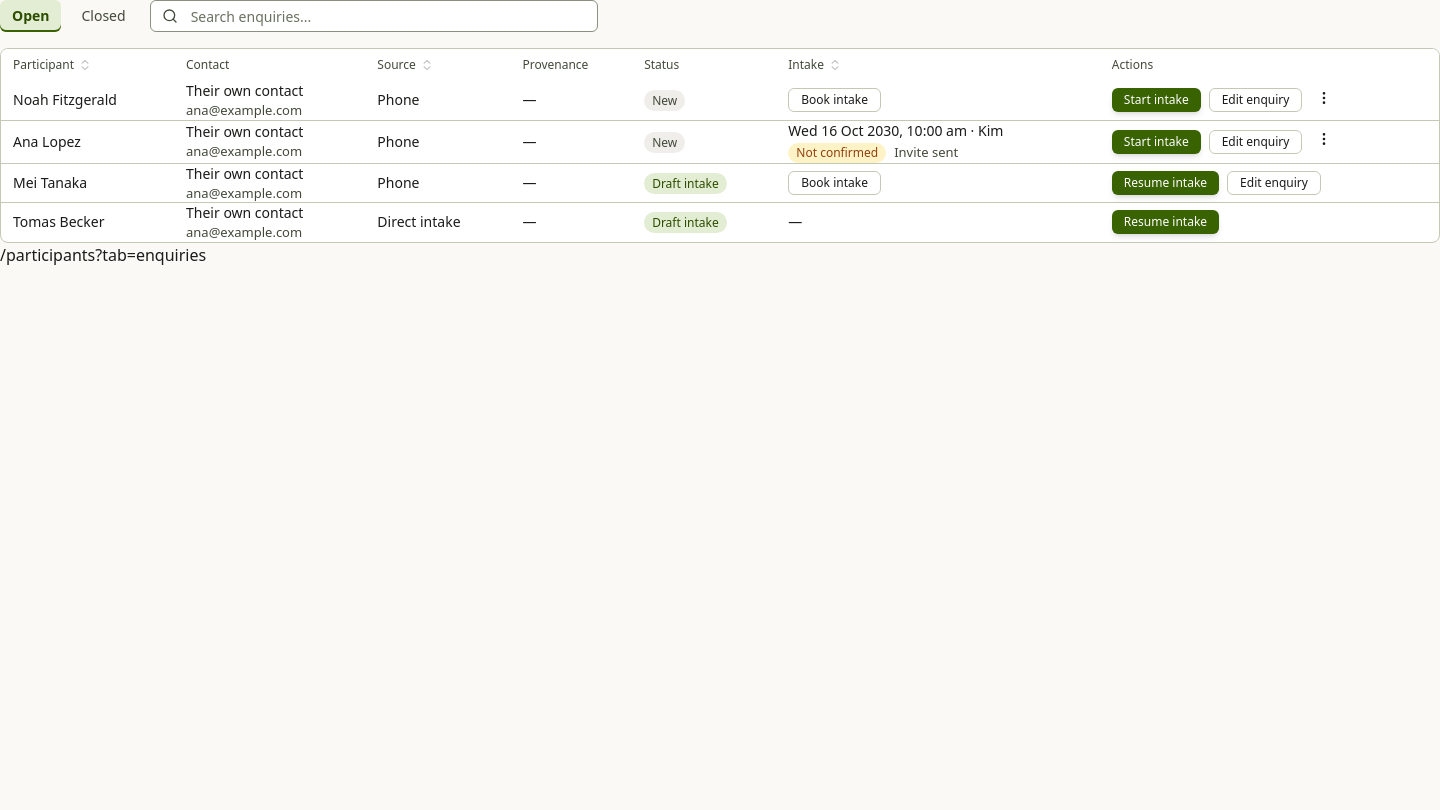
closing an enquiry from the table › a refused close keeps the dialog with the server's sentence
Click the button named "More actions for Noah Fitzgerald": (1324,98) x1=1310 y1=84 x2=1338 y2=112
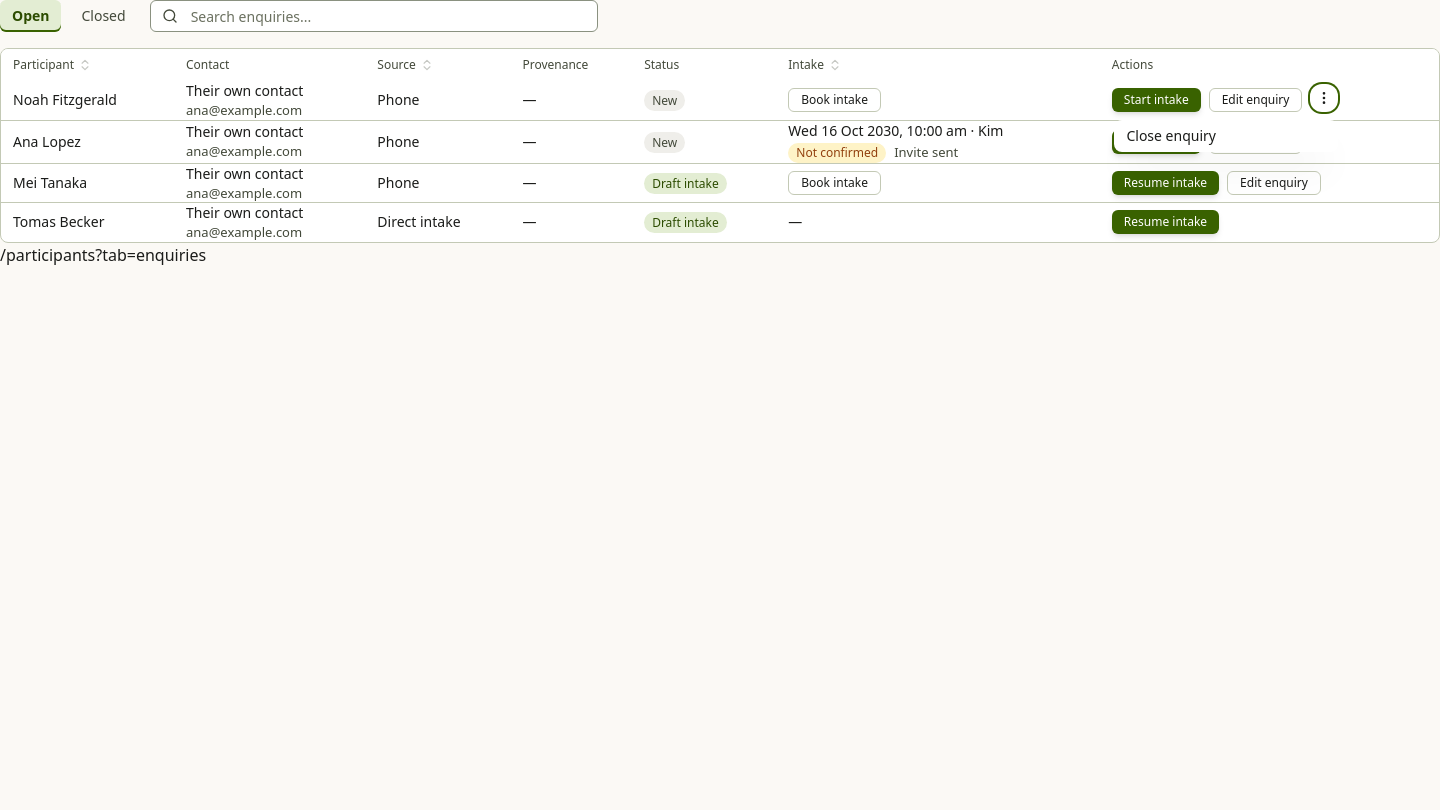
Click the option "Close enquiry": (1171,135) x1=1126 y1=126 x2=1216 y2=145
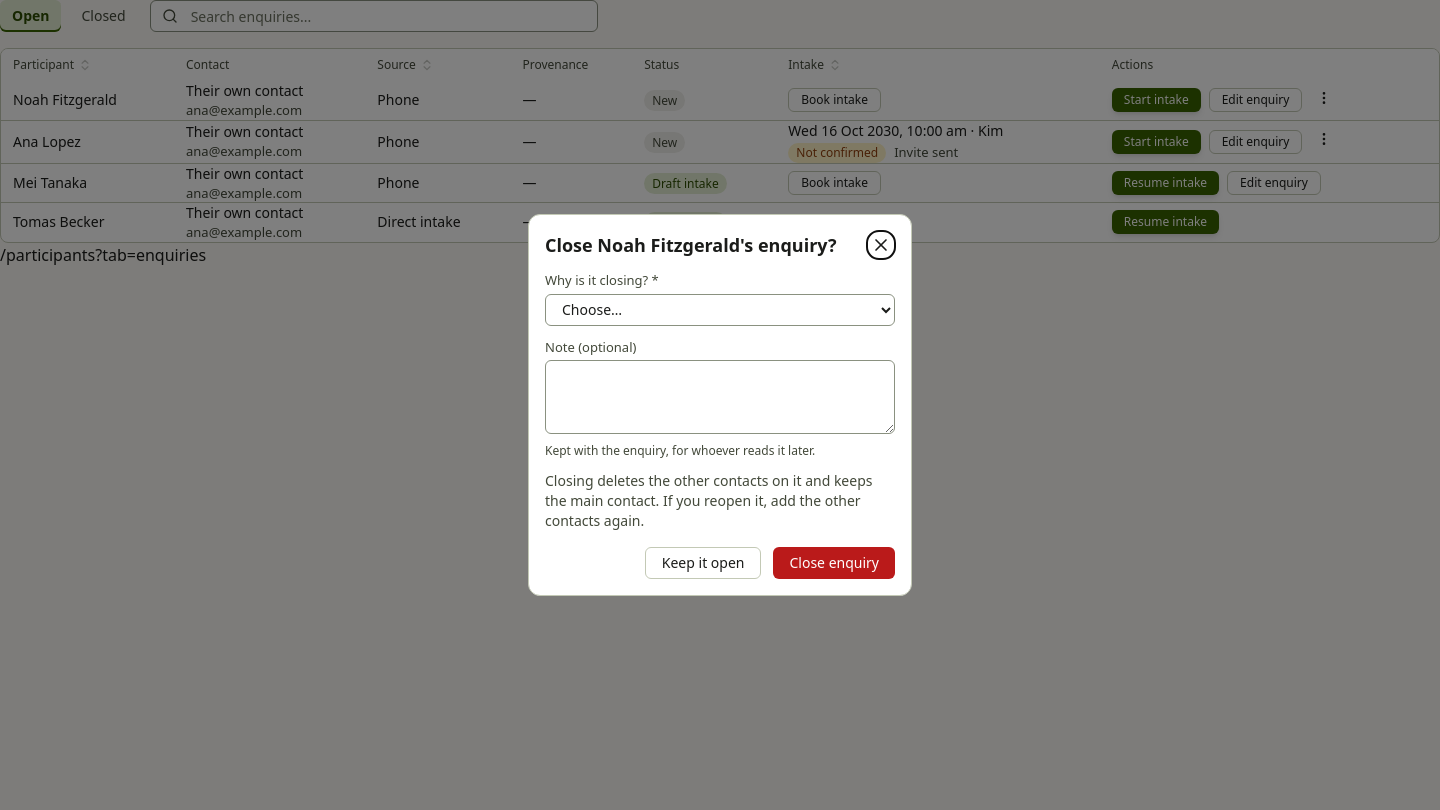
Select "Other" in the dropdown labelled "Why is it closing? *": (720,310) x1=545 y1=294 x2=895 y2=326
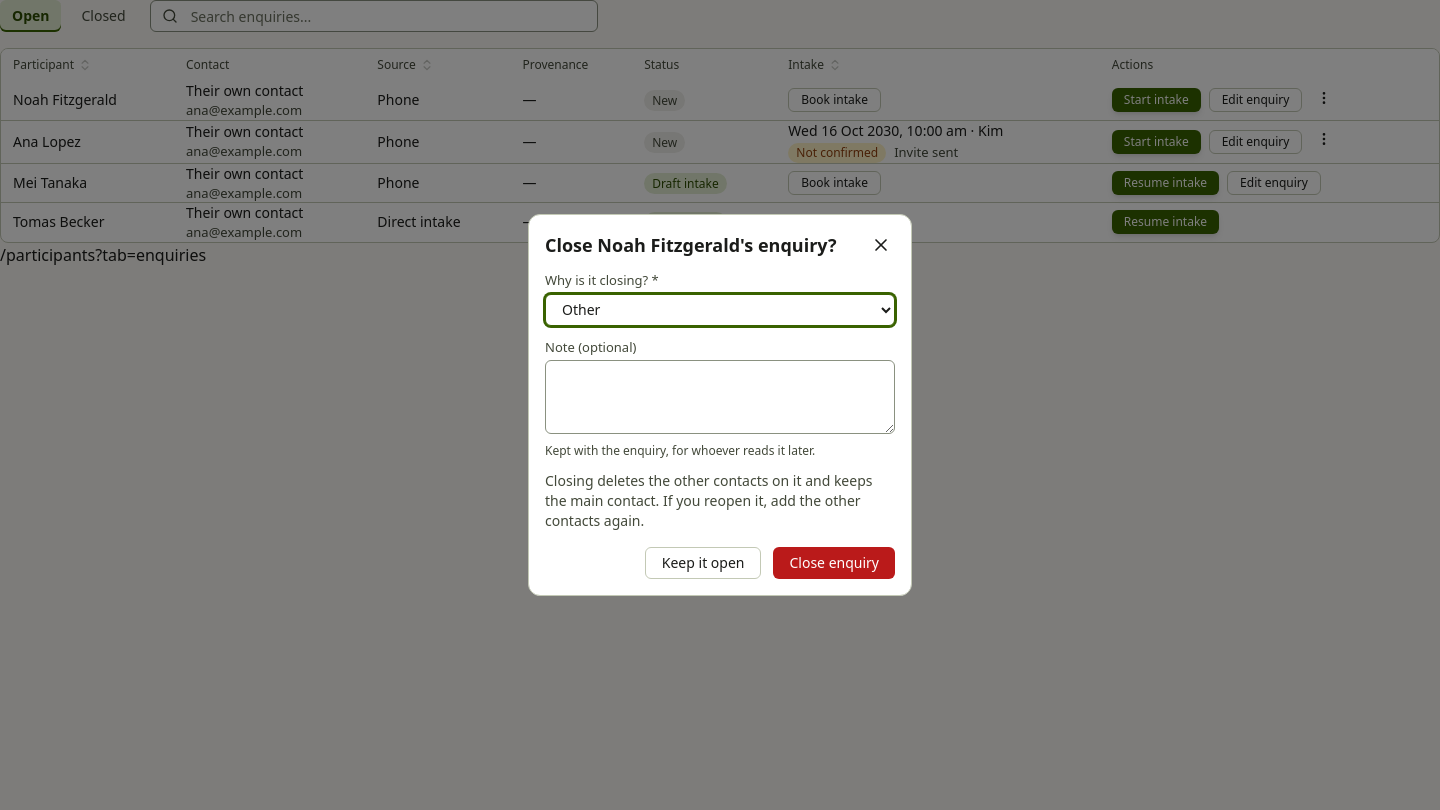
Click the button "Close enquiry": (834,563) x1=774 y1=547 x2=895 y2=579
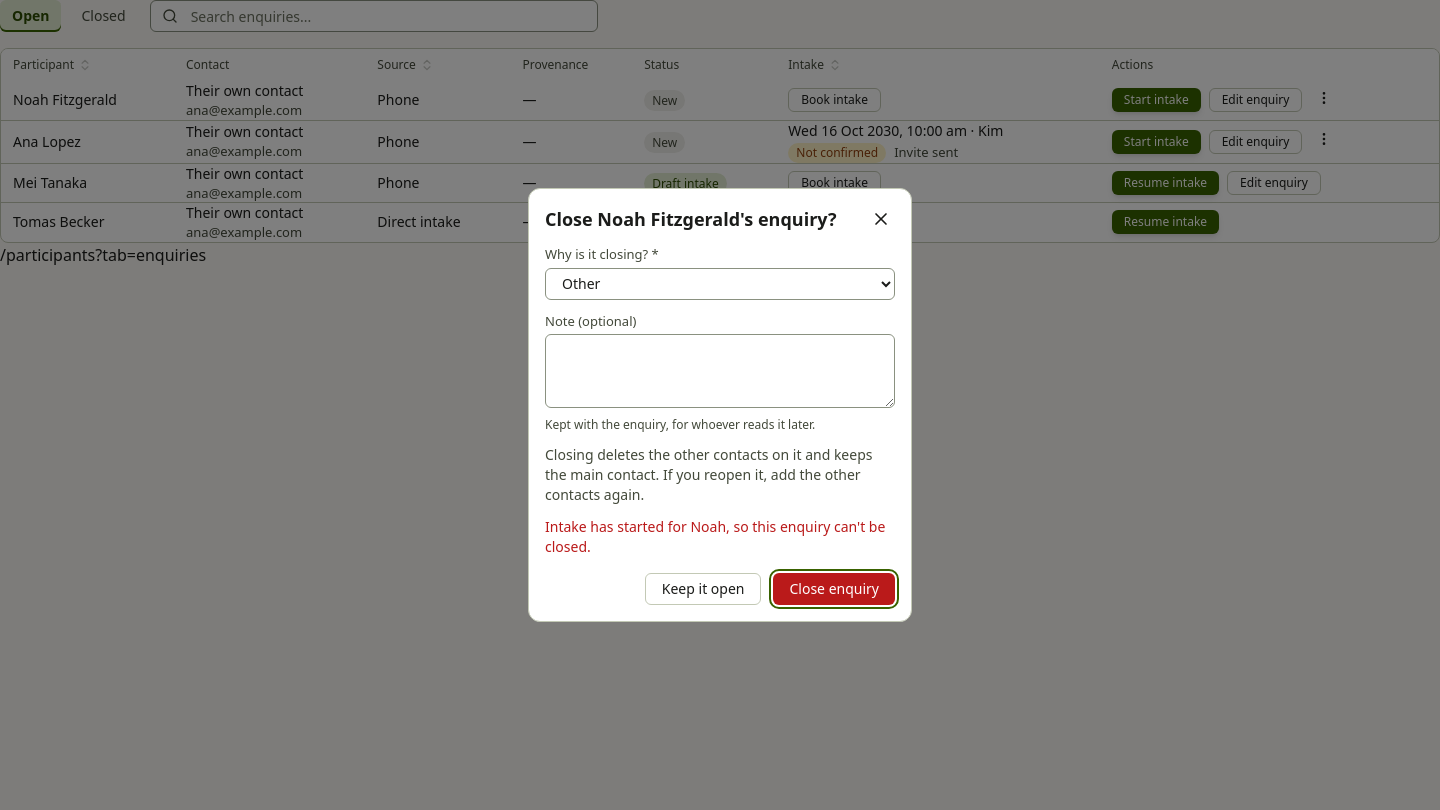
Expected: the dialog is shown, x1=528 y1=188 x2=912 y2=622
Expected: the message reads "Intake has started for Noah, so this enquiry can't be closed.", x1=545 y1=517 x2=885 y2=556
